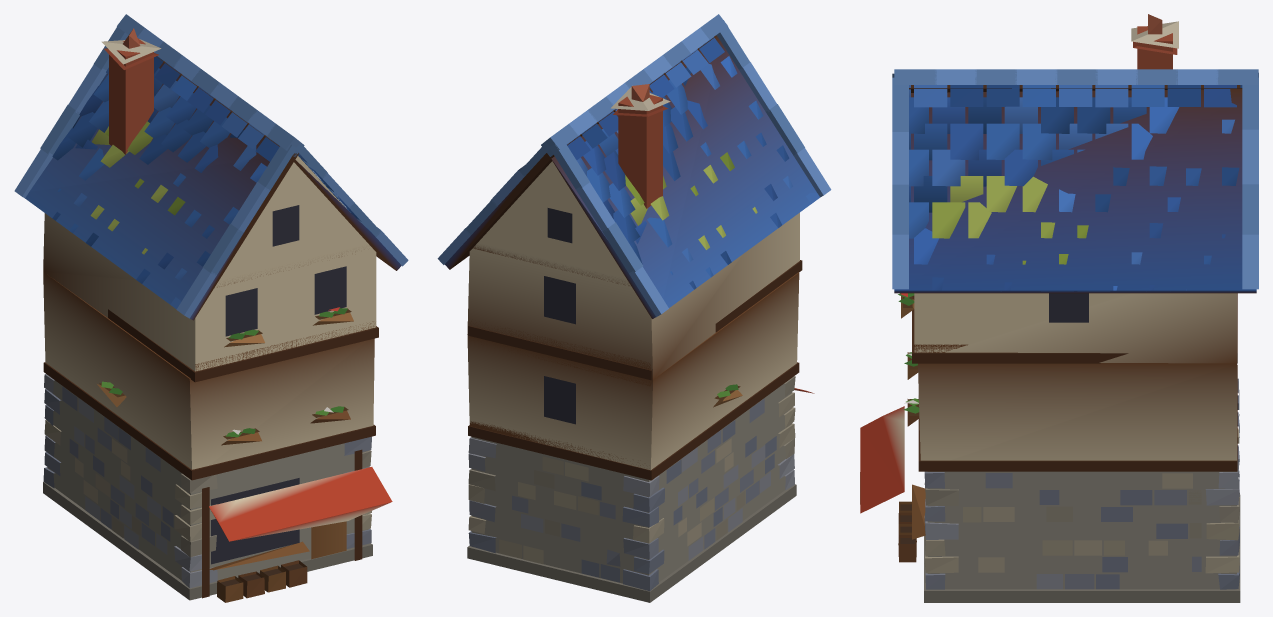
The model's file is town_house_narrow-lod1.glb.
3 views of the same model, side by side, from view 1: azimuth 30°, elevation 25°; view 2: azimuth 150°, elevation 25°; view 3: azimuth 270°, elevation 25° (orthographic). The views are drawn at different scales.
Parts seen in each view (by area): view 1: town_house_narrow; view 2: town_house_narrow; view 3: town_house_narrow.
Part boxes in pixels (box(x1,y1,x2,y2)): town_house_narrow: box(14, 14, 408, 602); town_house_narrow: box(437, 14, 831, 602); town_house_narrow: box(860, 14, 1258, 602).
Bounding box in the file's own units: 6.33 × 12.88 × 9.03.
